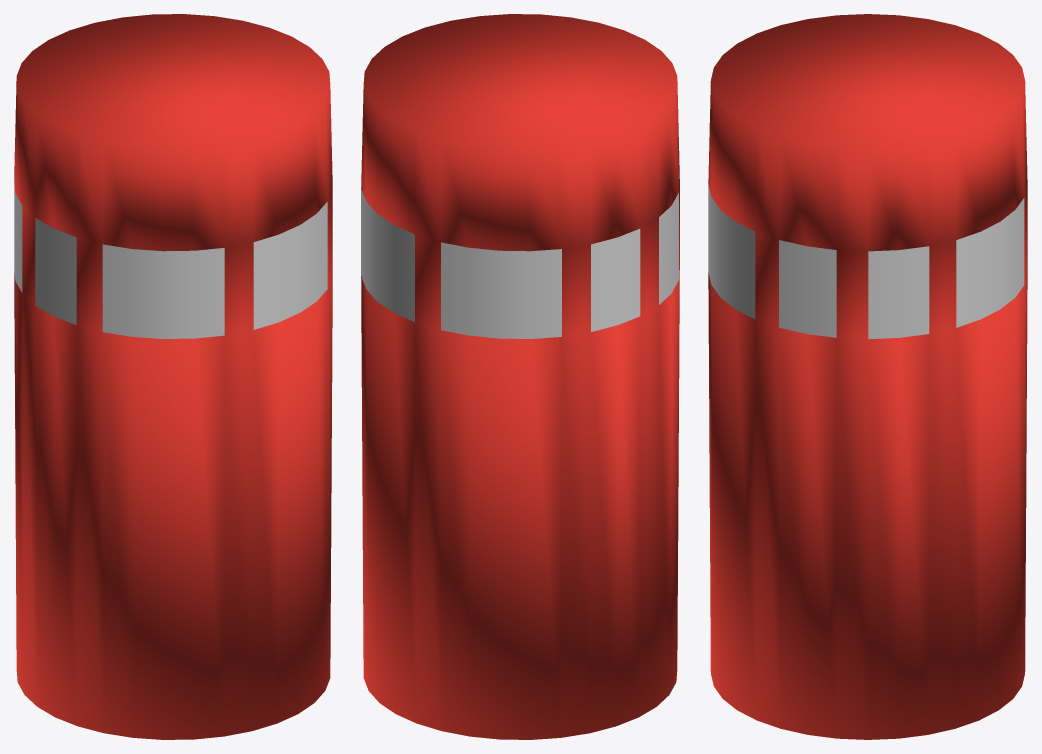
File: MoonbasePleaseWork.fbx
3 renders of one model, left to right at view 1: azimuth 30°, elevation 25°; view 2: azimuth 150°, elevation 25°; view 3: azimuth 270°, elevation 25°, orthographic.
Visible parts, largest first — view 1: Base, Windows.001; view 2: Base, Windows.001; view 3: Base, Windows.001.
Boxes of the visible parts, x1,y1,x2,y2 form: Base: [14, 14, 332, 739]; Windows.001: [14, 183, 327, 338]; Base: [361, 14, 679, 739]; Windows.001: [361, 188, 678, 338]; Base: [708, 14, 1027, 739]; Windows.001: [708, 185, 1024, 339].
Bounding box in the file's own units: 84.24 × 173 × 84.24.
